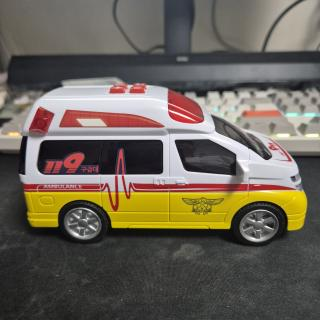Ambulance: (20, 84, 306, 245)
